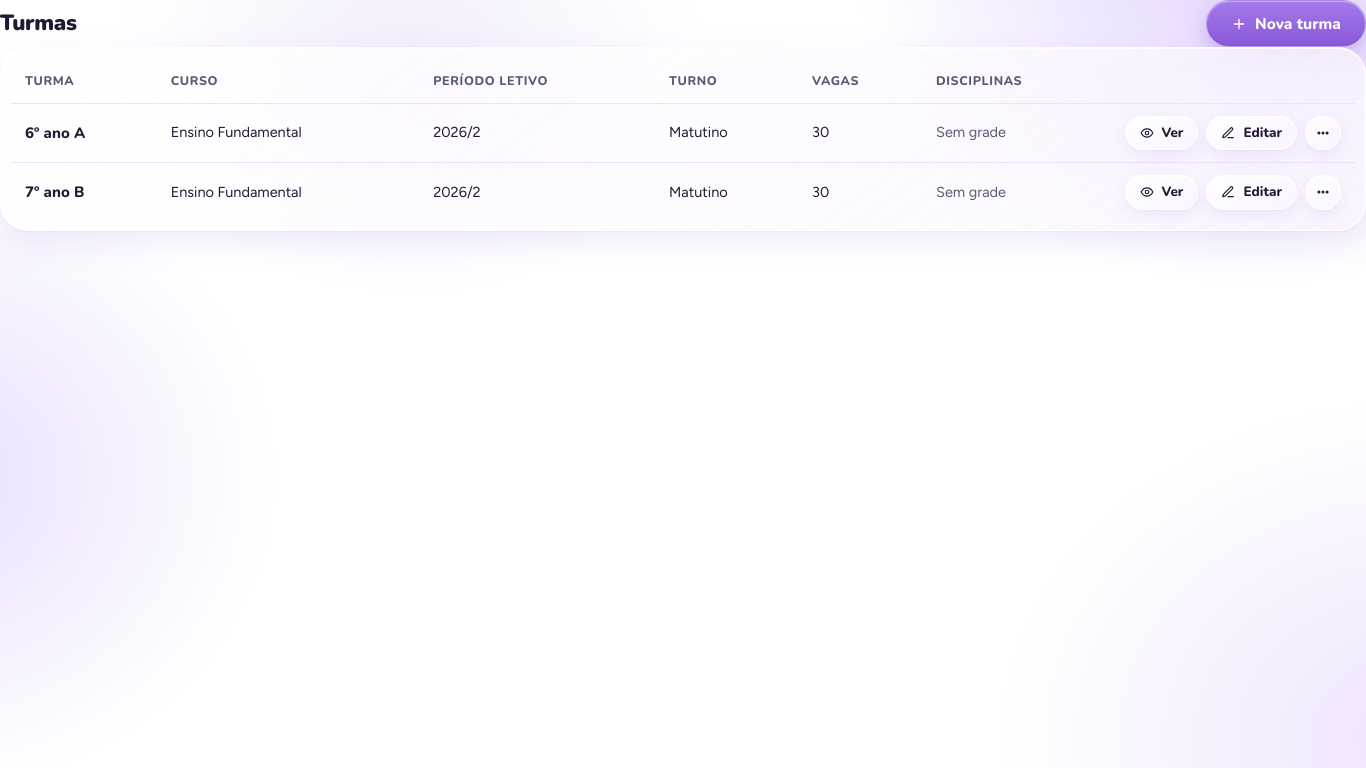
Test case: Turmas › depois de excluir, lê a página de novo do backend
This screenshot has width=1366, height=768.
Click the button named "Mais ações para 6º ano A". click: (1323, 133)
box: [1305,116,1341,150]
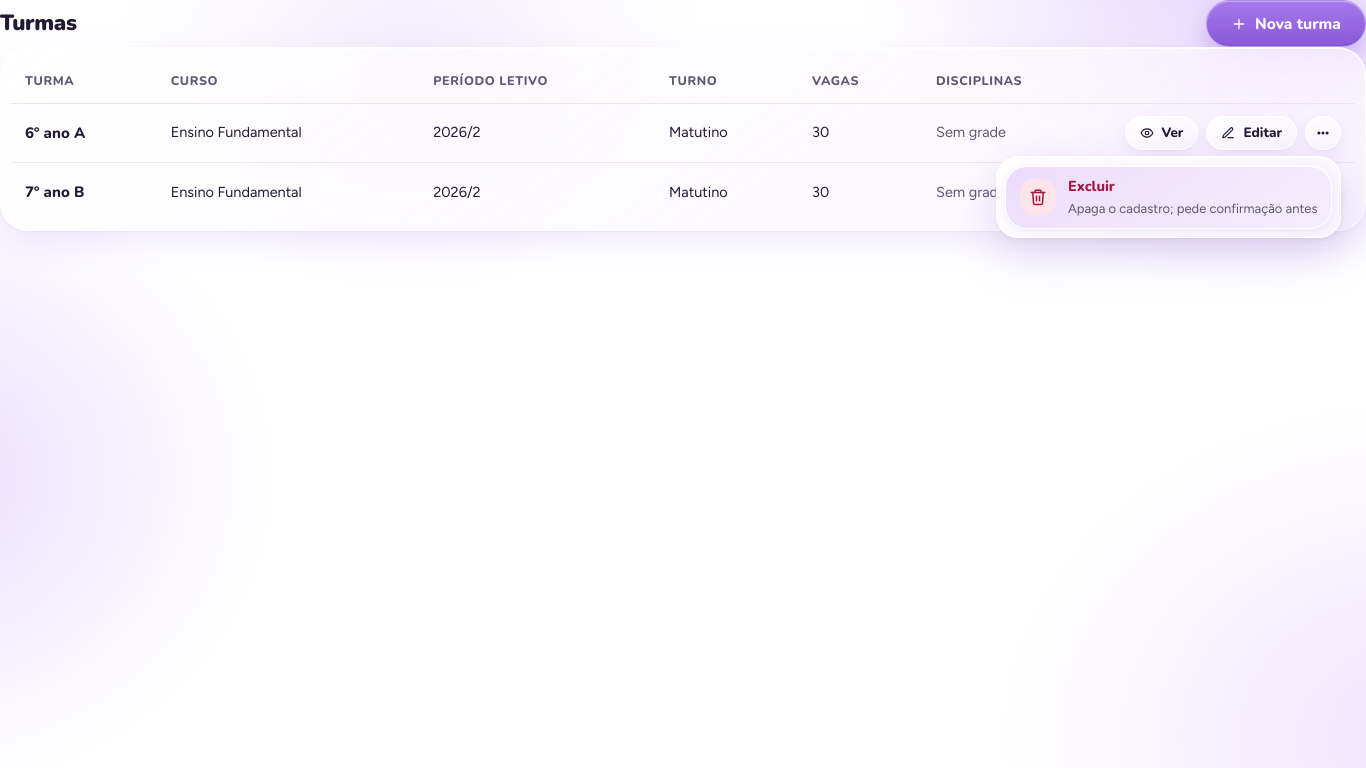
Click the menu item "Excluir Apaga o cadastro; pede confirmação antes". click: (1038, 197)
box: [1005,165,1332,229]
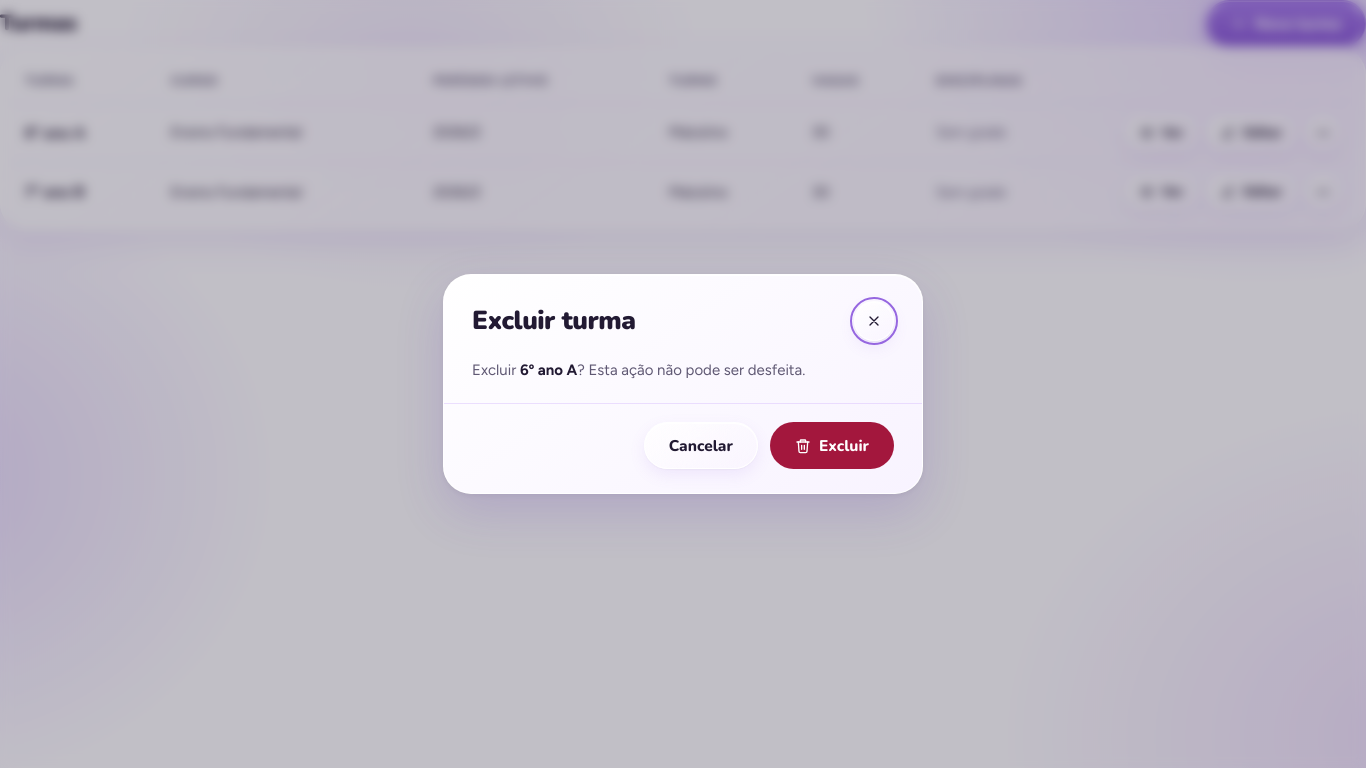
Click the button "Excluir". click: (832, 446)
box: [770,422,894,469]
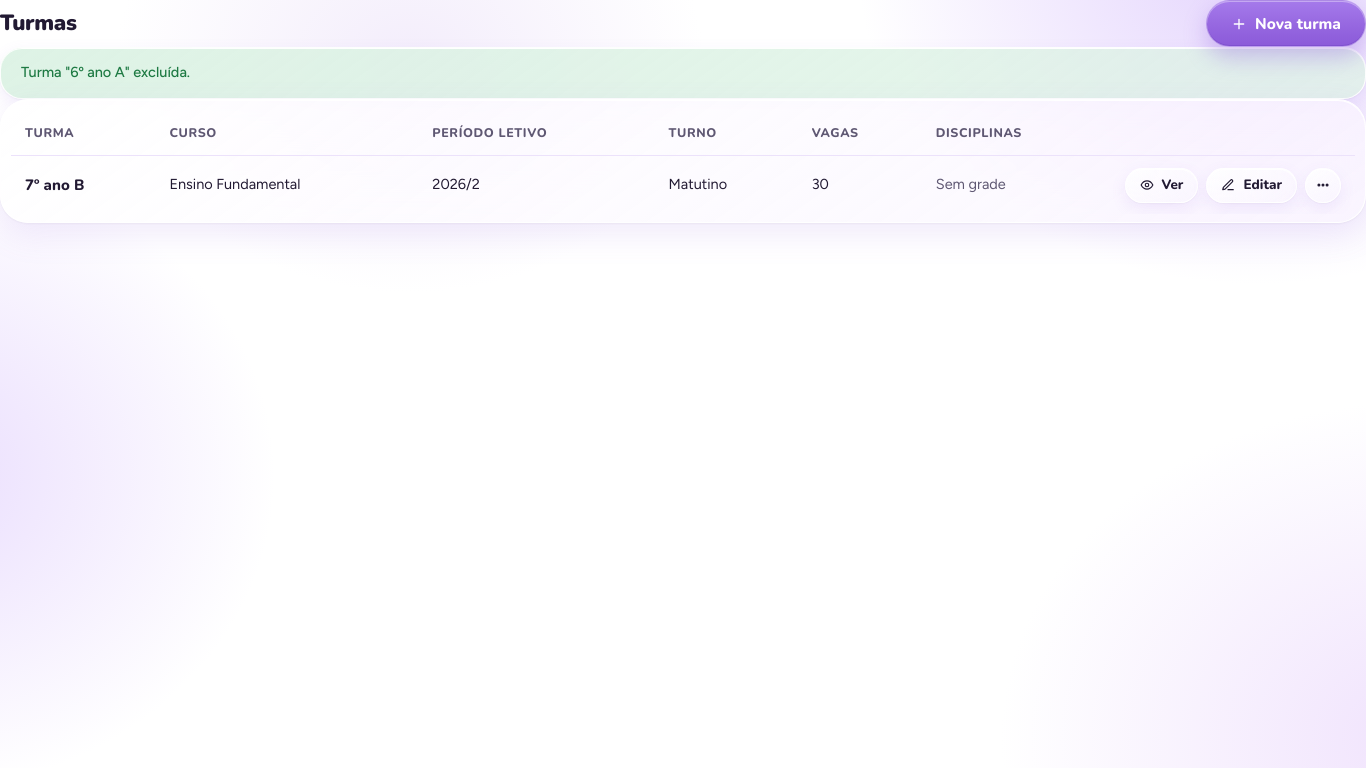
Expected: the text "7º ano B" is shown, [25,174,84,194]
Now the text "Turma \"6º ano A\" excluída." is shown, box [0,47,1365,99]
